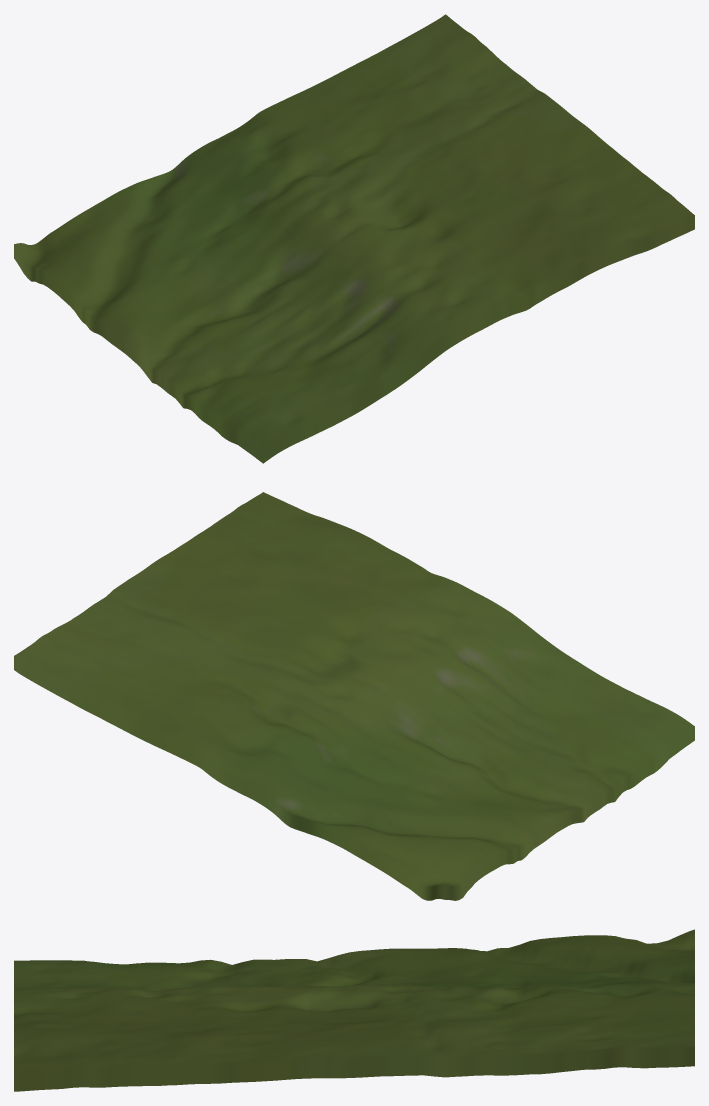
Rendered from terrain_-1_1.glb.
The picture shows the model from 3 angles, top to bottom: view 1: azimuth 30°, elevation 25°; view 2: azimuth 150°, elevation 25°; view 3: azimuth 270°, elevation 25°; orthographic projection. The views are drawn at different scales.
Visible parts, largest first — view 1: terrain_-1_1; view 2: terrain_-1_1; view 3: terrain_-1_1.
Part boxes in pixels (bbox=[...]): terrain_-1_1: bbox=[14, 14, 694, 463]; terrain_-1_1: bbox=[14, 492, 694, 900]; terrain_-1_1: bbox=[14, 929, 694, 1091].
Bounding box in the file's own units: 256 × 93.39 × 256.
